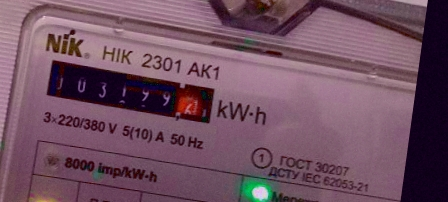0: (50, 69, 65, 91), (73, 72, 88, 93)
1: (117, 78, 130, 98)
3: (95, 78, 108, 98)
6: (182, 99, 194, 116)
9: (158, 86, 172, 107), (138, 82, 151, 103)
screen: (37, 53, 225, 131)
